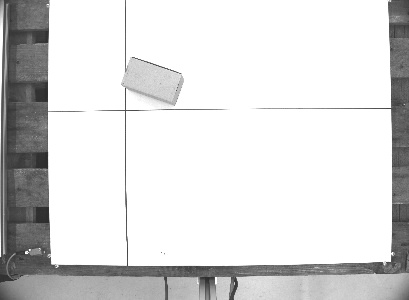b2: (119, 54, 187, 106)
